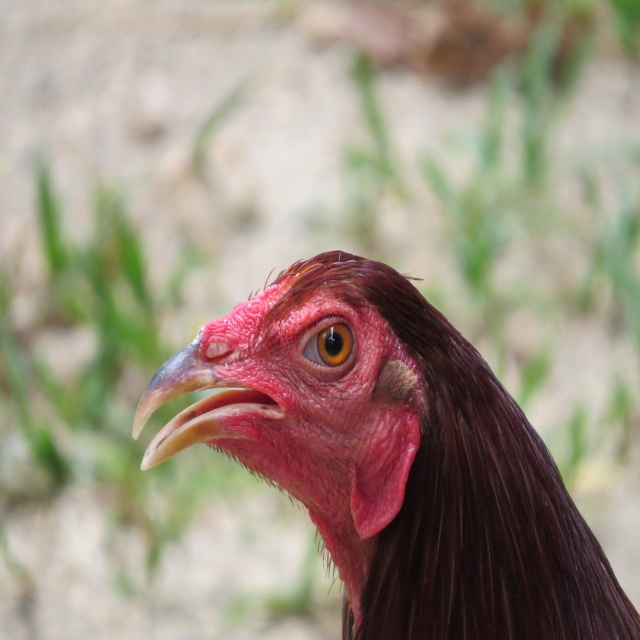Chicken: (134, 239, 640, 630)
